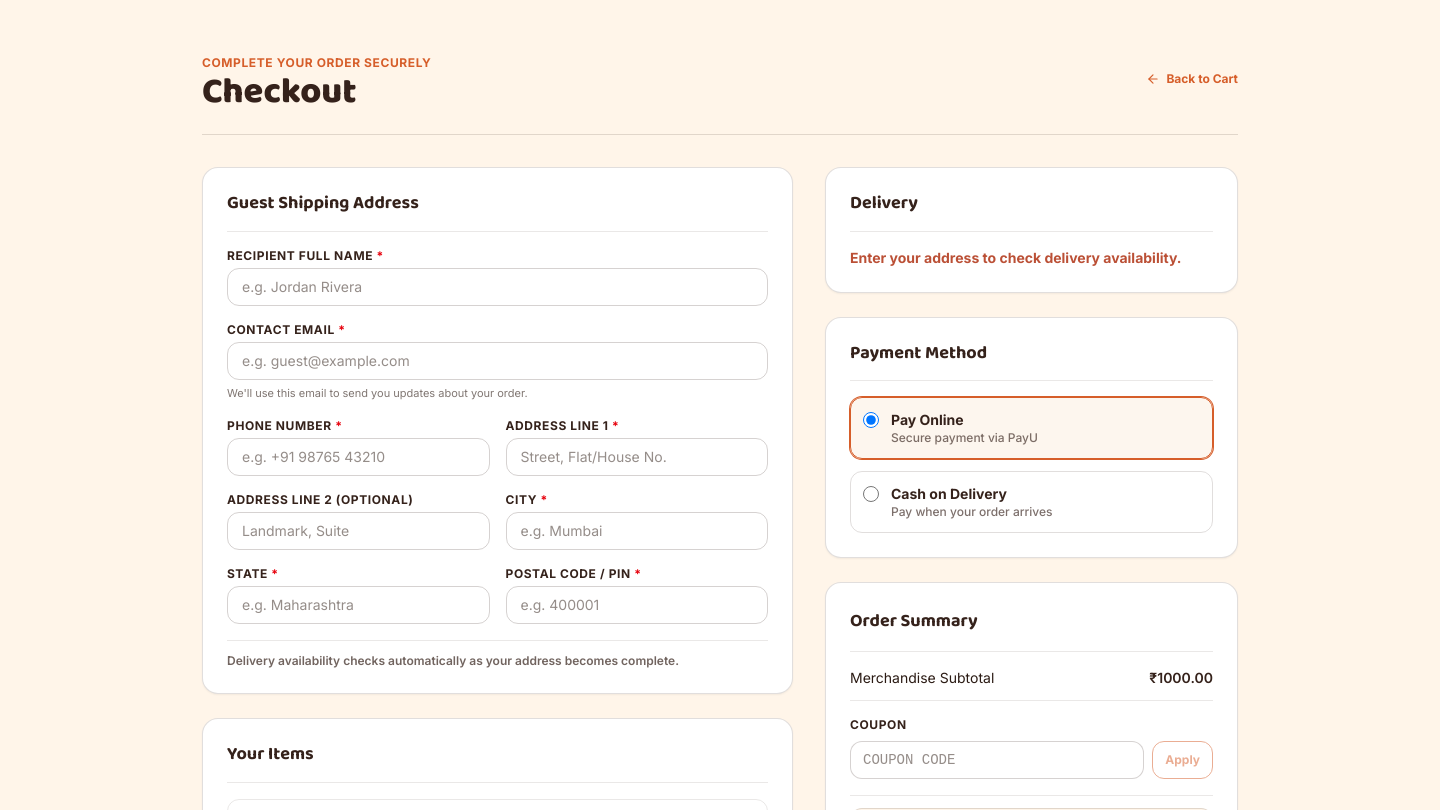
it: Checkout product payment-method availability › conflicting cart blocks checkout with the conflict message and no method auto-selected
Expected: the heading "Guest Shipping Address" is shown, [227,192,419,215]
Type "Guest User" into the field labelled "Recipient Full Name *".
click(498, 287); type("Guest User")  # box [227,268,768,306]
Type "+91 98765 00000" into the field labelled "Phone Number *".
click(358, 457); type("+91 98765 00000")  # box [227,438,490,476]
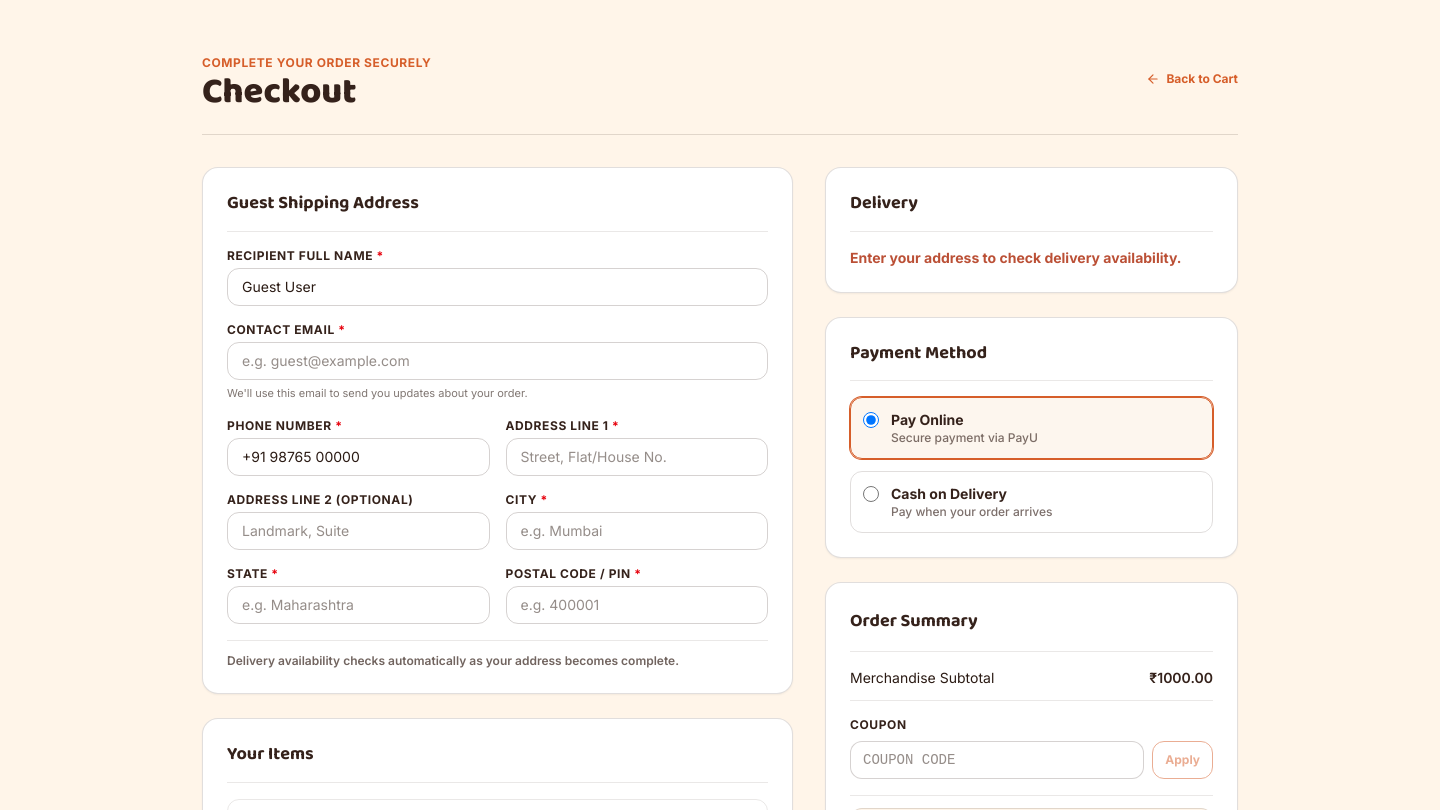
Type "123 Street" into the field labelled "Address Line 1 *".
click(637, 457); type("123 Street")  # box [506,438,768,476]
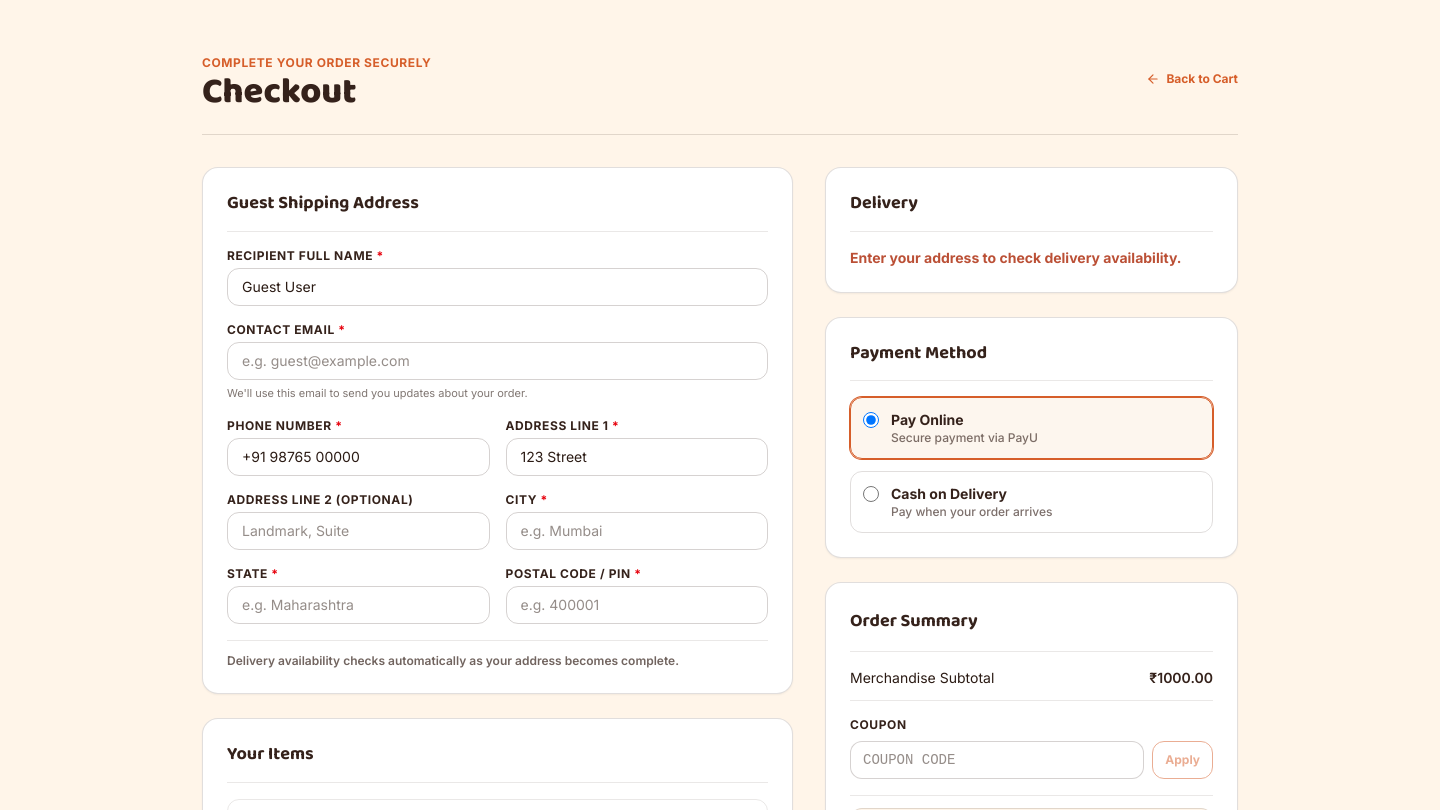
Type "Mumbai" into the field labelled "City *".
click(637, 531); type("Mumbai")  # box [506,512,768,550]
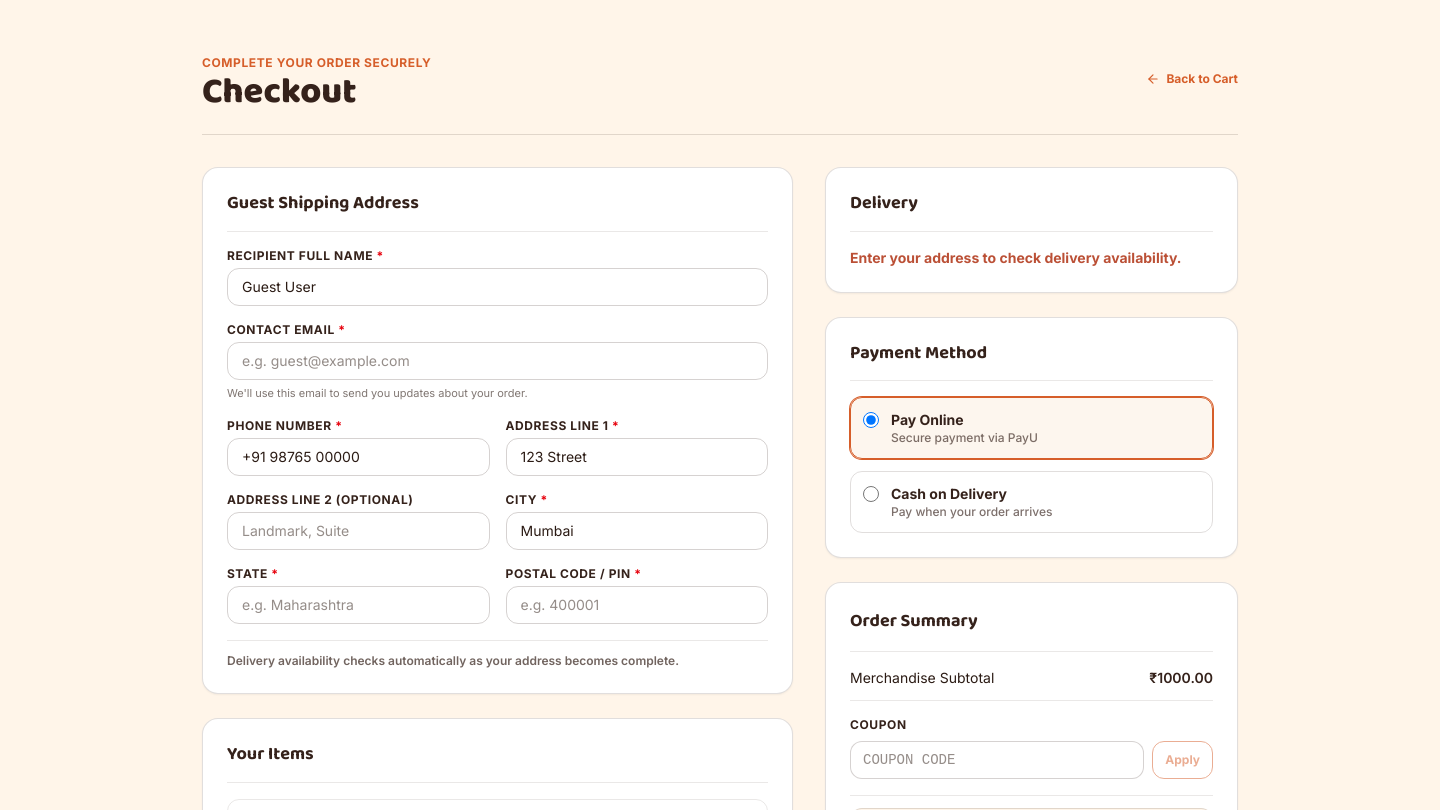
Type "Maharashtra" into the field labelled "State *".
click(358, 605); type("Maharashtra")  # box [227,586,490,624]
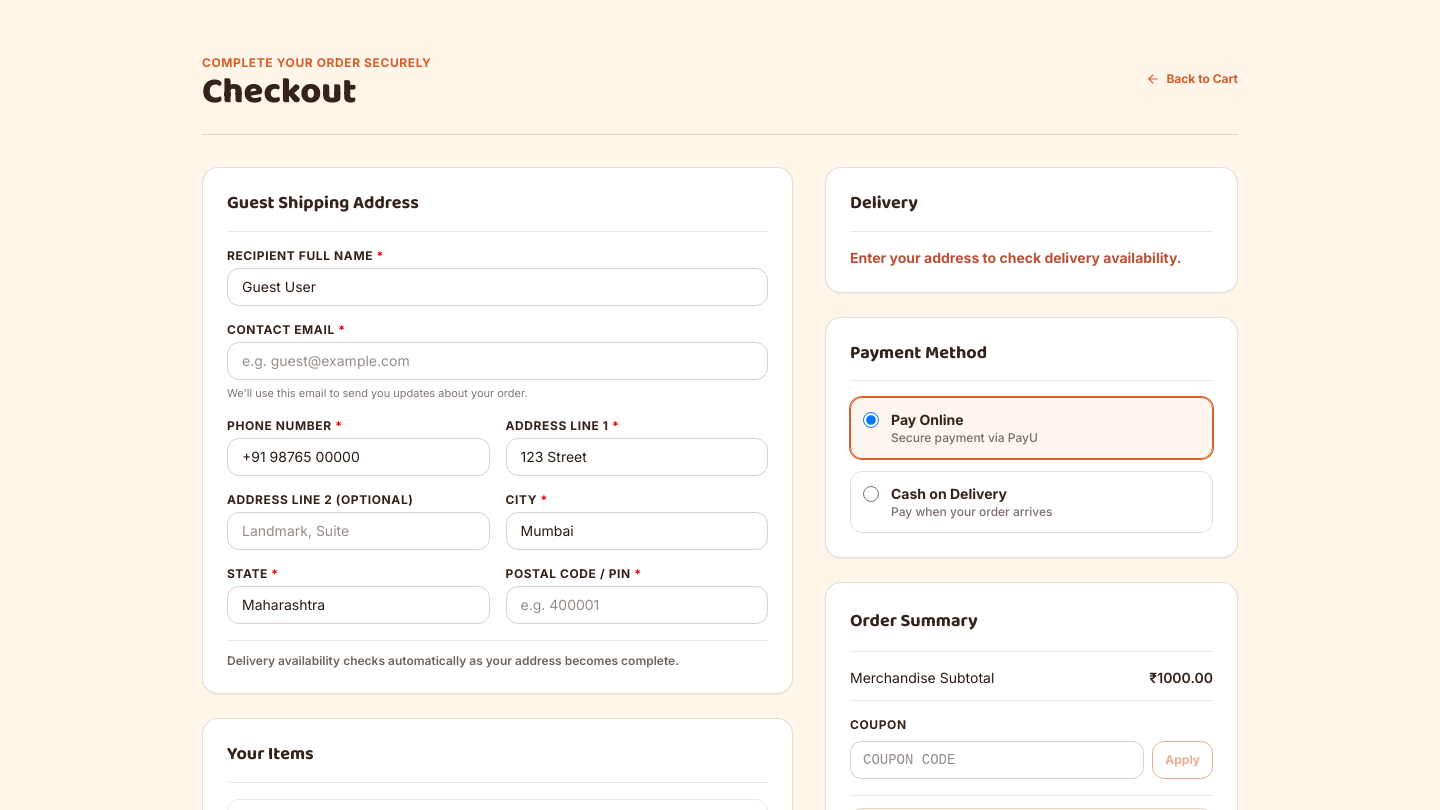
Type "400001" into the field labelled "Postal Code / PIN *".
click(637, 605); type("400001")  # box [506,586,768,624]
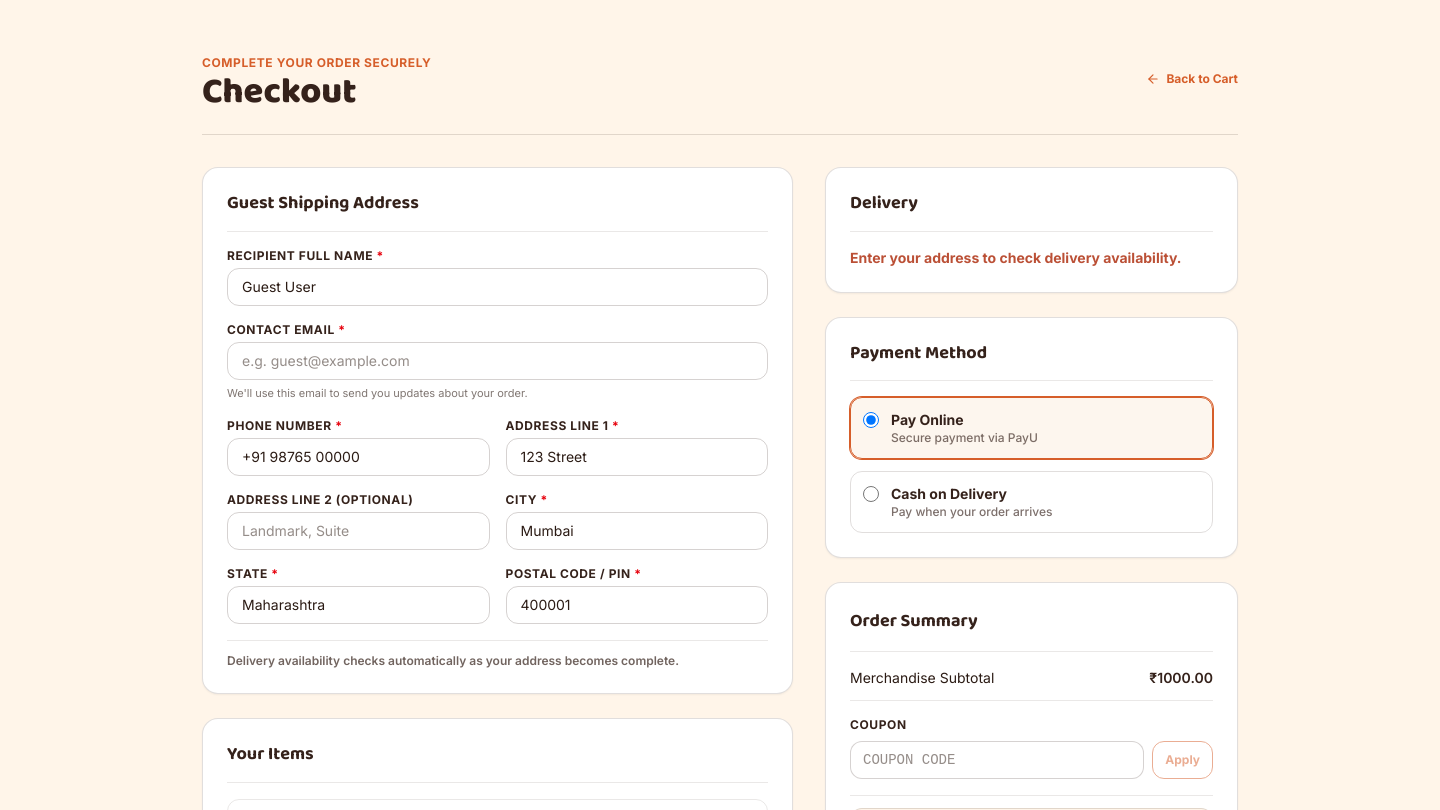
Type "guest@example.com" into the field labelled "Contact Email *".
click(498, 361); type("guest@example.com")  # box [227,342,768,380]
(page scrolled)
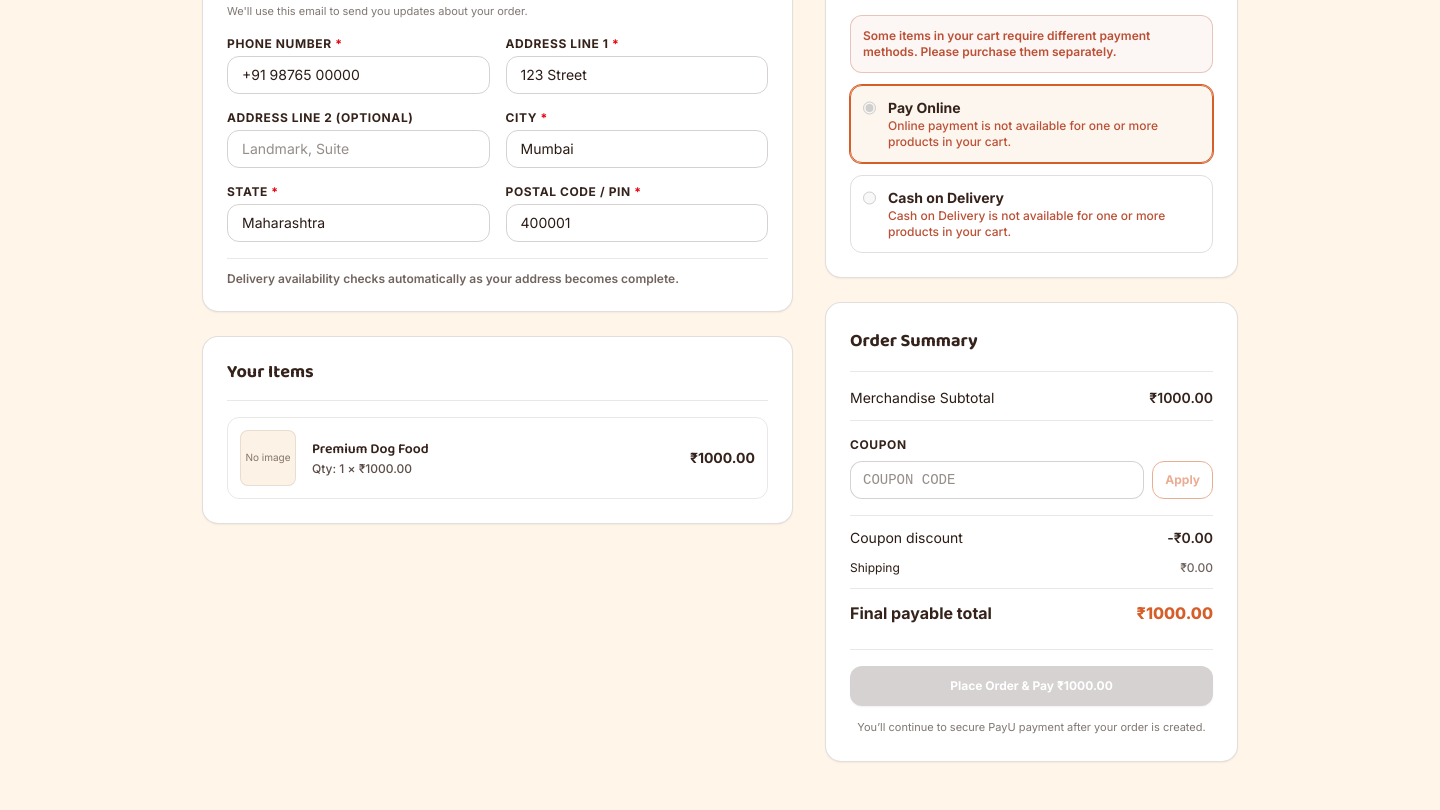
Result: the message shows "Some items in your cart require different payment methods. Please purchase them separately." at [863,28,1150,59]
Result: the button "Place Order & Pay ₹1000.00" is disabled at [850,666,1213,706]
